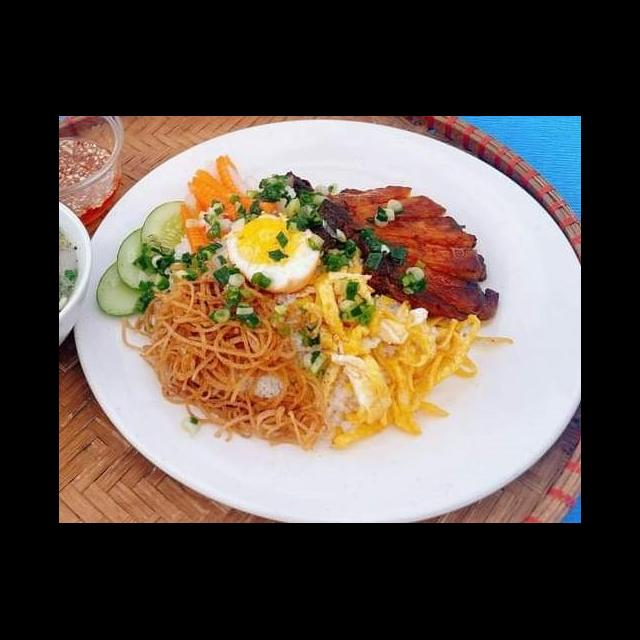bi: (151, 164, 399, 329)
com: (162, 285, 360, 349), (368, 202, 471, 258)
com suon bi trung: (88, 147, 563, 523)
dua chua: (395, 208, 536, 292)
suon: (313, 292, 513, 461)
trung: (148, 313, 398, 448), (346, 242, 466, 325)
